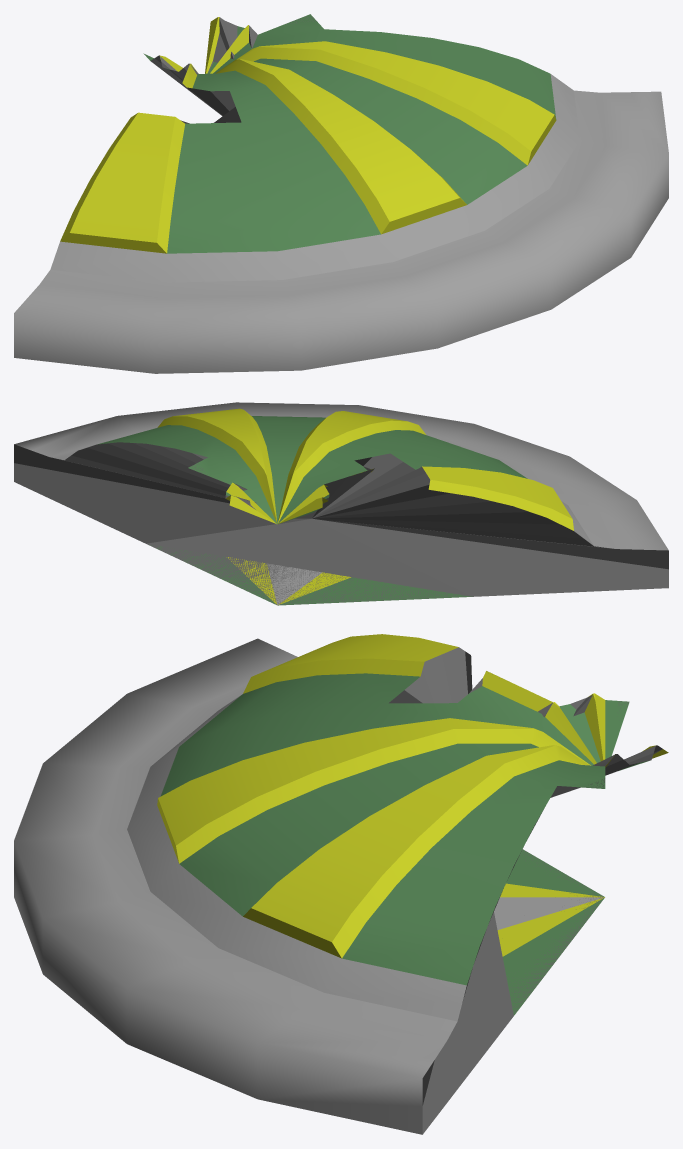
The model's file is plate3.FBX.
3 renders of one model, top to bottom at view 1: azimuth 30°, elevation 25°; view 2: azimuth 150°, elevation 25°; view 3: azimuth 270°, elevation 25°, orthographic. The views are drawn at different scales.
Visible parts, largest first — view 1: pasted__pCylinder2; view 2: pasted__pCylinder2; view 3: pasted__pCylinder2.
Boxes of the visible parts, bbox=[...] form: pasted__pCylinder2: bbox=[14, 14, 668, 373]; pasted__pCylinder2: bbox=[14, 402, 668, 605]; pasted__pCylinder2: bbox=[14, 634, 668, 1134].
Size of the model in its own units: 2.39 by 0.4662 by 1.5.
